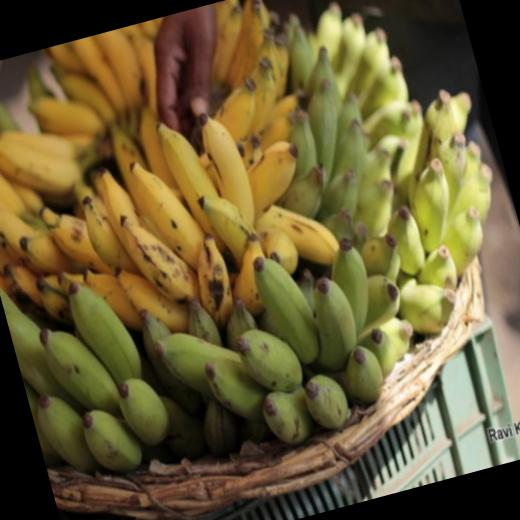Banana: (0, 0, 520, 505), (247, 242, 327, 371)
